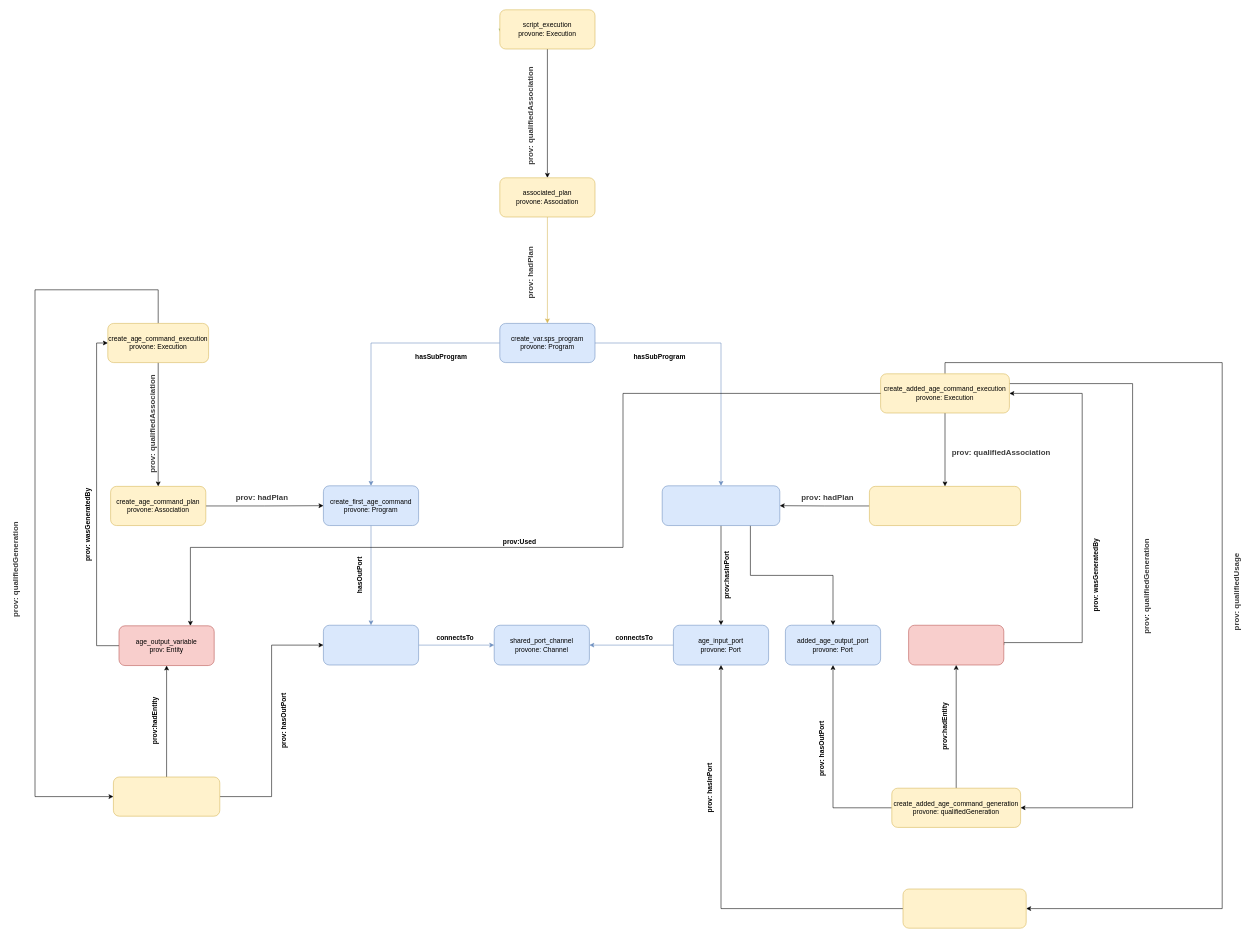
The diagram is 1251 pixels wide and 938 high, and some of its shapes have lost their labels. Each missing label, with the centre of its shape:
added_age_output_variable prov: Entity: [956,645]
create_added_age_command provone: Program: [721,505]
create_added_age_command_command _plan provone: Association: [945,506]
create_aded_age_command _usage provone: qualifiedUsage: [964,908]
create_age_command _generation provone: qualifiedGeneration: [166,796]
create_first_age_port provone: Port: [371,645]
